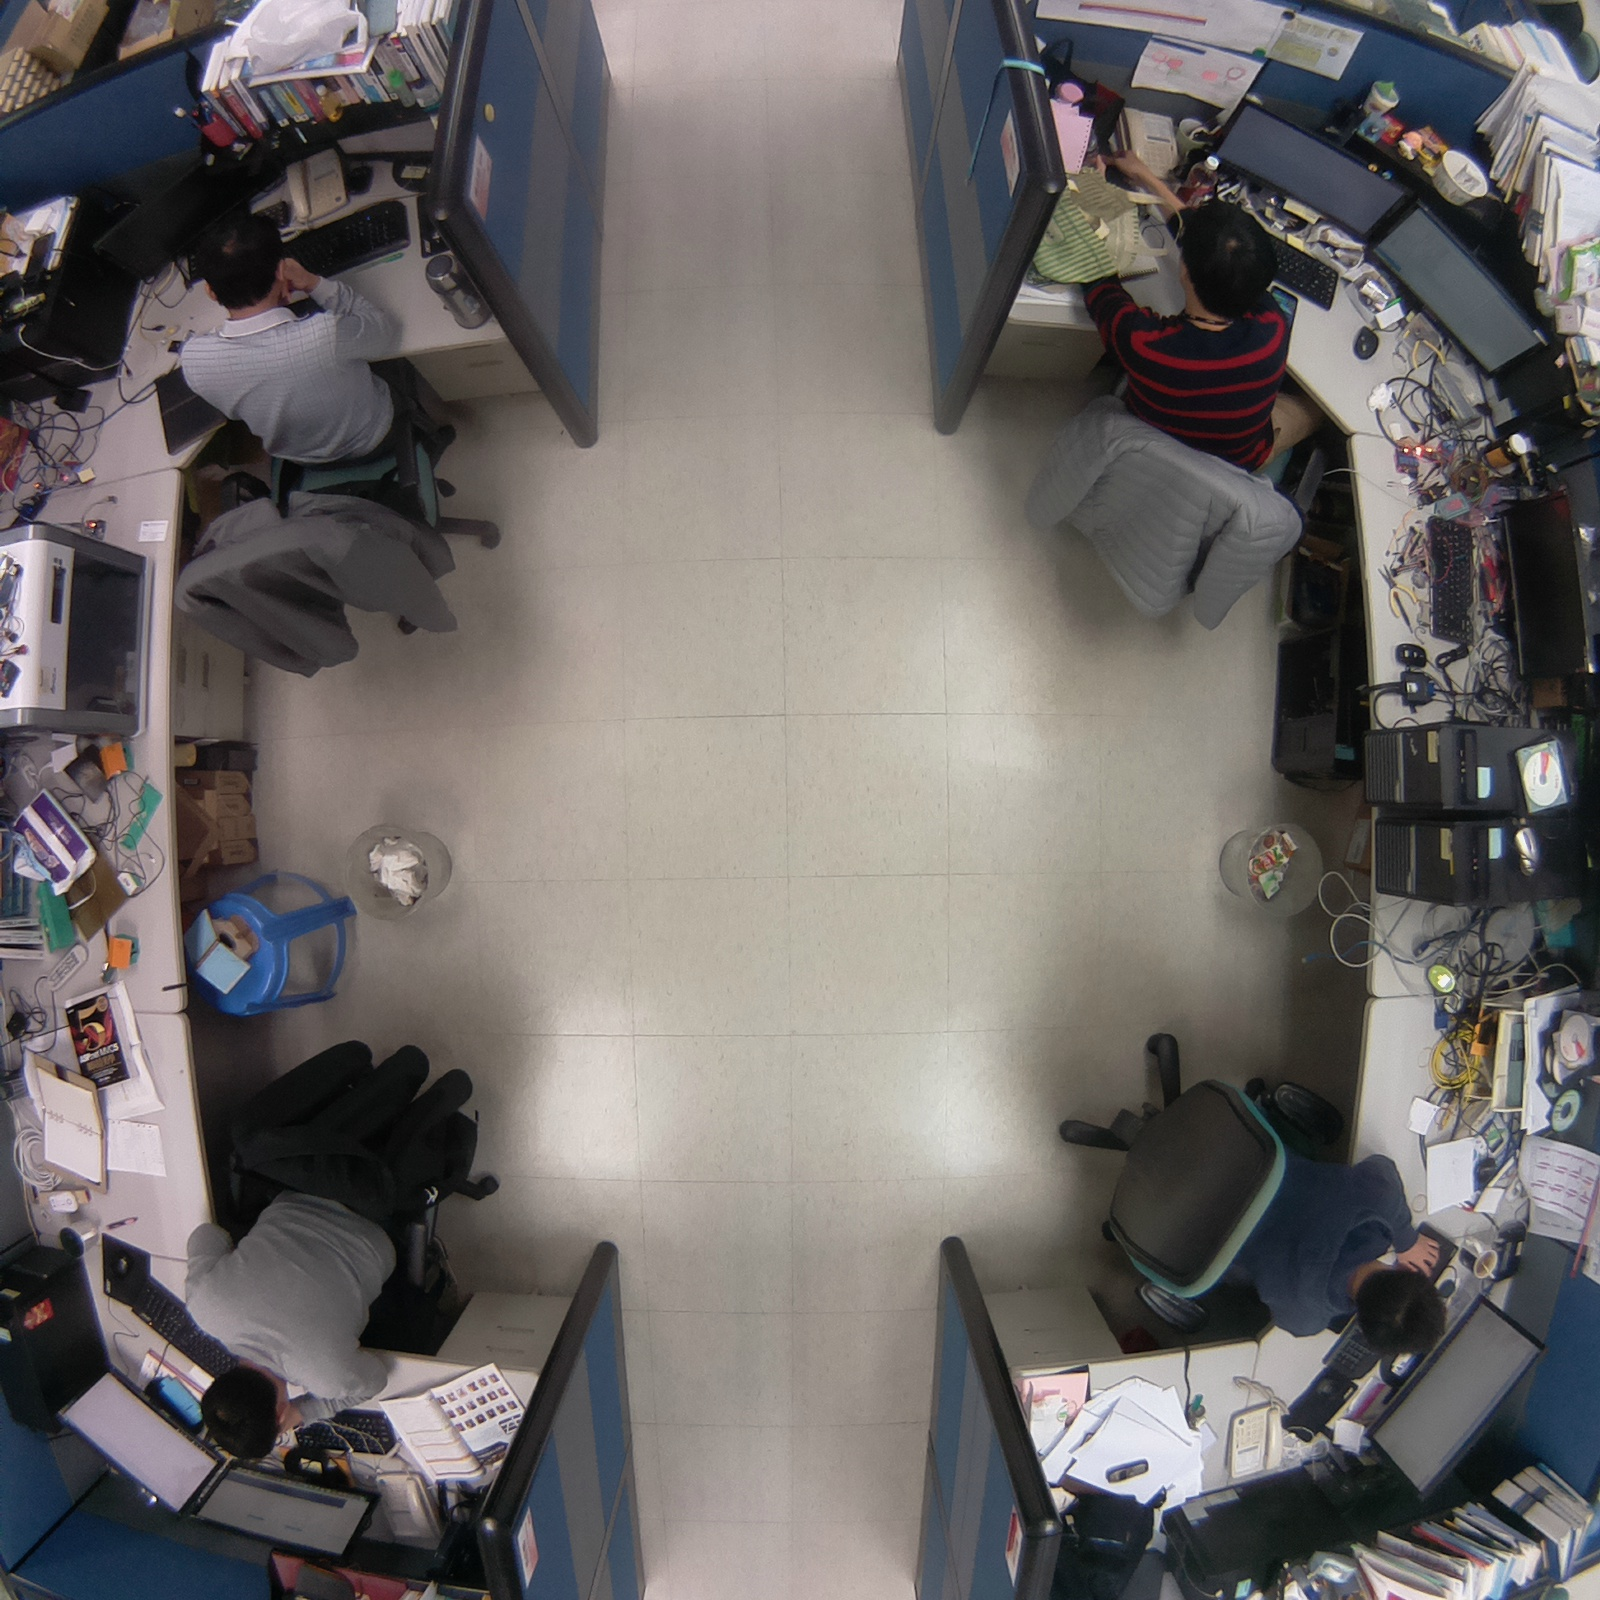head: (1172, 200, 1285, 325), (191, 195, 293, 317), (1351, 1253, 1453, 1365), (200, 1351, 289, 1470)
sitting: (153, 212, 509, 691), (171, 1011, 527, 1469), (1045, 1017, 1464, 1364), (1012, 198, 1322, 642)
